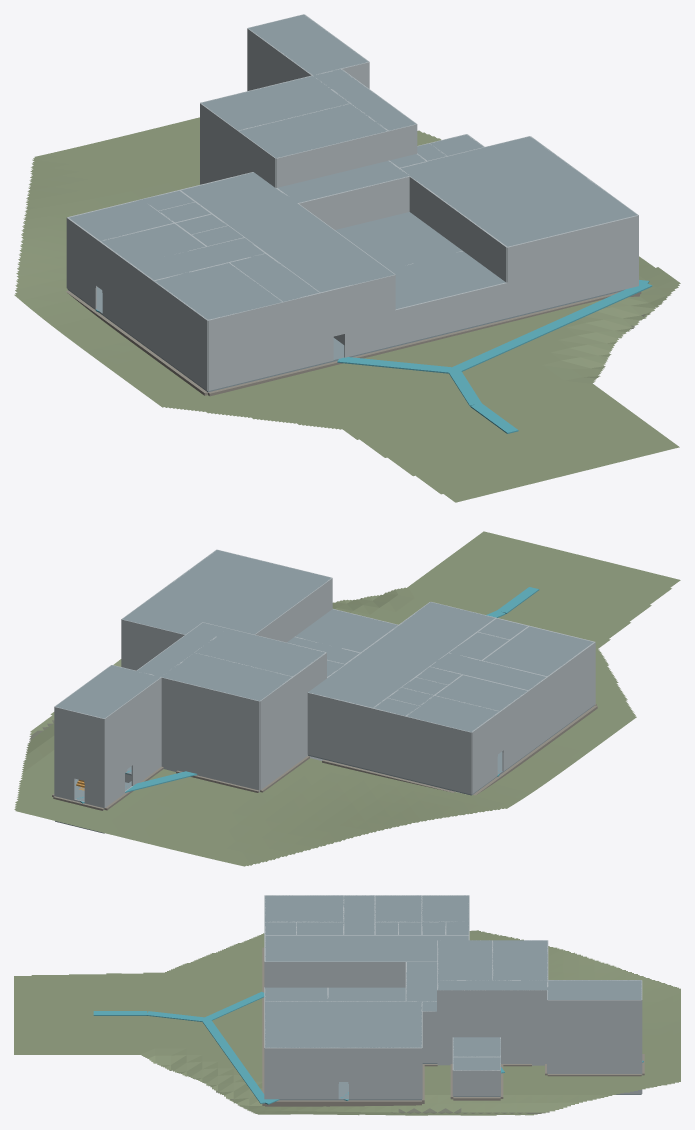
Rendered from access-routes.glb.
3 renders of one model, top to bottom at view 1: azimuth 30°, elevation 25°; view 2: azimuth 150°, elevation 25°; view 3: azimuth 270°, elevation 25°, orthographic. The views are drawn at different scales.
Parts seen in each view (by area): view 1: Saved editor macroterrain MANSION, Ceiling cap ballroom, Ceiling cap gallery, Wall ballroom S, Ceiling cap archive, Ceiling cap attic-store, Wall morning S, Wall drawing S, Ceiling cap suite-bed, Ceiling cap dining, Ceiling cap morning, Ceiling cap attic-stair (+30 smaller); view 2: Saved editor macroterrain MANSION, Ceiling cap ballroom, Ceiling cap gallery, Ceiling cap archive, Ceiling cap attic-store, Wall library N, Ceiling cap suite-bed, Ceiling cap attic-stair, Wall archive N, Ceiling cap morning, Wall guest-a N, Wall gallery N (+37 smaller); view 3: Saved editor macroterrain MANSION, Ceiling cap ballroom, Ceiling cap gallery, Flat route shell Wall ballroom E.001, Flat route shell Wall ballroom E, Flat route shell Wall gallery E.001, Wall upper-service E, Wall upper-service-stair E, Wall service-stair E, Wall attic-passage E, Ceiling cap archive, Ceiling cap attic-store (+20 smaller).
Part boxes in pixels (<box>): Saved editor macroterrain MANSION: <box>14,117,680,502</box>; Ceiling cap ballroom: <box>401,136,637,246</box>; Ceiling cap gallery: <box>181,172,394,292</box>; Wall ballroom S: <box>507,215,638,317</box>; Ceiling cap archive: <box>201,75,349,130</box>; Ceiling cap attic-store: <box>239,104,387,158</box>; Wall morning S: <box>395,282,507,345</box>; Wall drawing S: <box>208,328,320,390</box>; Ceiling cap suite-bed: <box>154,262,281,319</box>; Ceiling cap dining: <box>335,212,462,269</box>; Ceiling cap morning: <box>389,251,505,309</box>; Ceiling cap attic-stair: <box>248,14,368,75</box>; Saved editor macroterrain MANSION: <box>14,531,680,866</box>; Ceiling cap ballroom: <box>122,550,330,634</box>; Ceiling cap gallery: <box>308,602,494,707</box>; Ceiling cap archive: <box>162,653,291,700</box>; Ceiling cap attic-store: <box>195,628,324,676</box>; Wall library N: <box>372,739,471,794</box>; Ceiling cap suite-bed: <box>483,626,593,676</box>; Ceiling cap attic-stair: <box>55,665,160,718</box>; Wall archive N: <box>161,677,259,727</box>; Ceiling cap morning: <box>295,609,397,652</box>; Wall guest-a N: <box>405,716,471,763</box>; Wall gallery N: <box>307,692,372,739</box>; Saved editor macroterrain MANSION: <box>14,930,680,1115</box>; Ceiling cap ballroom: <box>265,1001,421,1047</box>; Ceiling cap gallery: <box>265,935,468,961</box>; Flat route shell Wall ballroom E.001: <box>265,1047,338,1099</box>; Flat route shell Wall ballroom E: <box>348,1047,421,1099</box>; Flat route shell Wall gallery E.001: <box>265,961,416,987</box>; Wall upper-service E: <box>422,1011,546,1037</box>; Wall upper-service-stair E: <box>547,1021,641,1047</box>; Wall service-stair E: <box>547,1047,641,1072</box>; Wall attic-passage E: <box>437,990,547,1011</box>; Ceiling cap archive: <box>492,940,547,980</box>; Ceiling cap attic-store: <box>437,940,492,980</box>.
Bounding box in the file's own units: 55 × 13.36 × 85.
